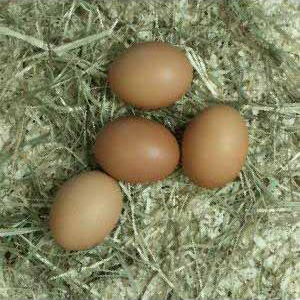egg: (50, 171, 124, 251), (93, 117, 181, 183), (109, 43, 193, 110), (181, 106, 249, 188)
